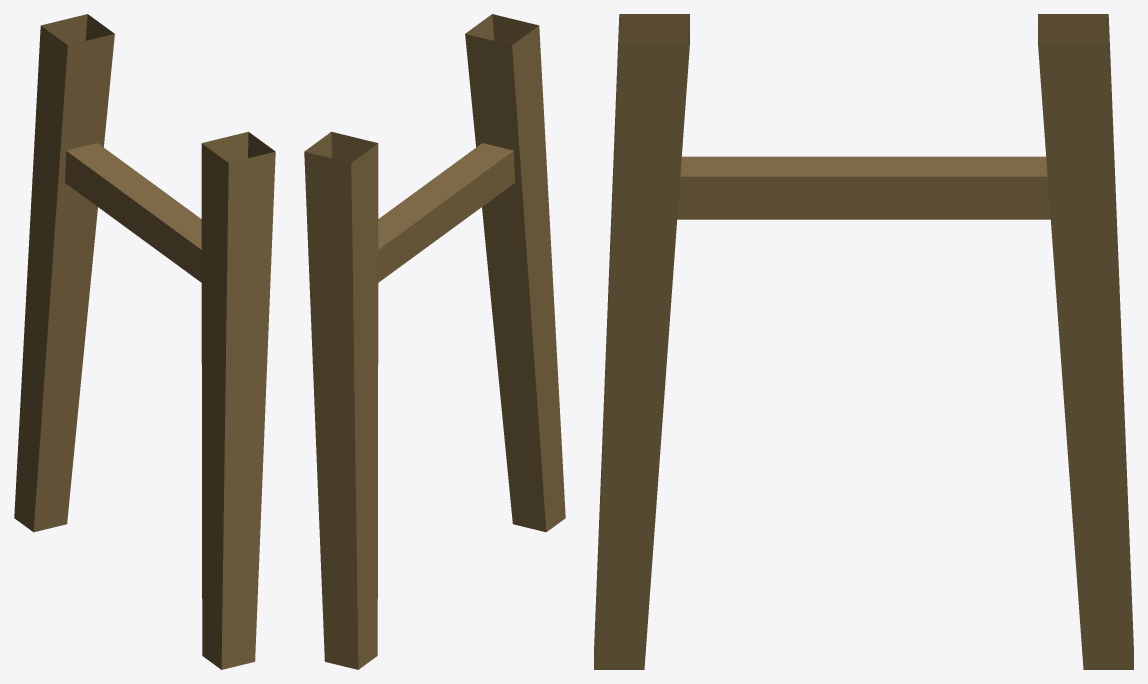
Rendered from Itr_Chair2_Leg_01.FBX.
3 renders of one model, left to right at view 1: azimuth 30°, elevation 25°; view 2: azimuth 150°, elevation 25°; view 3: azimuth 270°, elevation 25°, orthographic. The views are drawn at different scales.
Visible parts, largest first — view 1: Itr_Chair2_Leg_01; view 2: Itr_Chair2_Leg_01; view 3: Itr_Chair2_Leg_01.
Boxes of the visible parts, left/top/right/bottom form: Itr_Chair2_Leg_01: left=14, top=14, right=275, bottom=669; Itr_Chair2_Leg_01: left=304, top=14, right=565, bottom=669; Itr_Chair2_Leg_01: left=594, top=14, right=1133, bottom=669.
Size of the model in its own units: 2.2 by 16.33 by 12.38.
